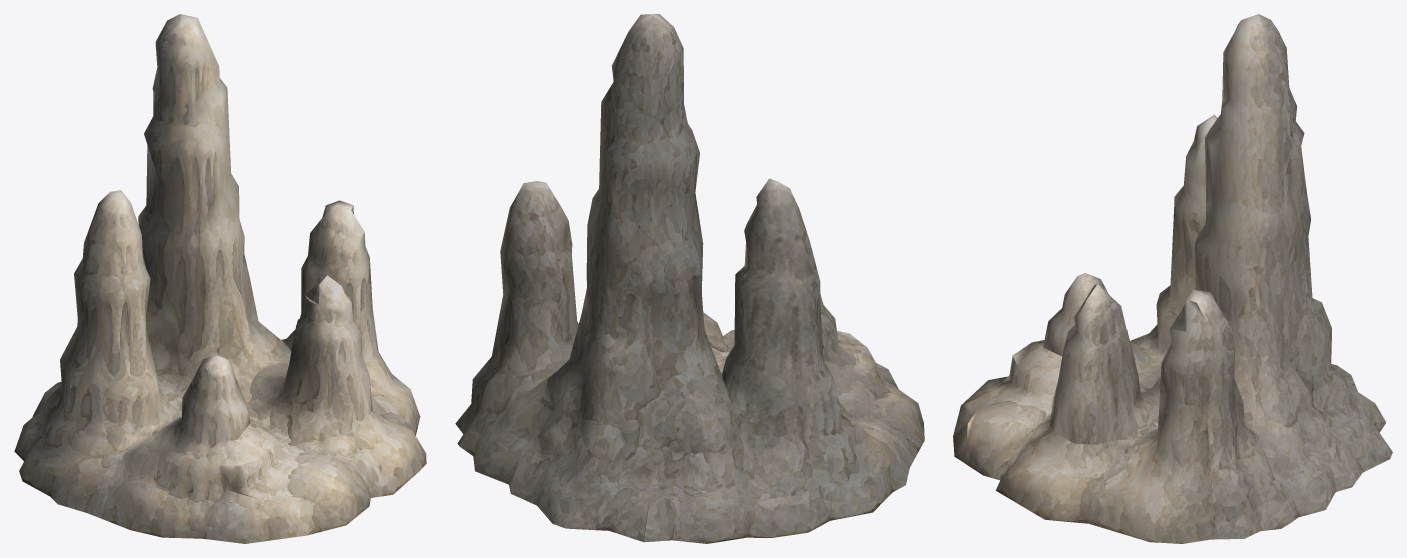
File: dungeon_stalagmites.glb
3 views of the same model, side by side, from view 1: azimuth 30°, elevation 25°; view 2: azimuth 150°, elevation 25°; view 3: azimuth 270°, elevation 25° (orthographic). The views are drawn at different scales.
Parts seen in each view (by area): view 1: stalagmites; view 2: stalagmites; view 3: stalagmites.
Part boxes in pixels (x1=…): stalagmites: x1=14, y1=14, x2=426, y2=543; stalagmites: x1=455, y1=14, x2=924, y2=543; stalagmites: x1=953, y1=14, x2=1392, y2=543.
Bounding box in the file's own units: 0.937 × 0.9985 × 0.9224.
1 material, 1 textured.
